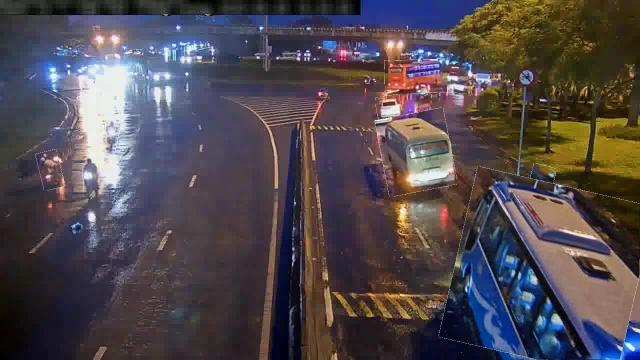Bike: (38, 150, 62, 190), (528, 164, 554, 200), (83, 156, 101, 196), (101, 122, 119, 154)
Bus: (447, 176, 639, 360), (378, 110, 454, 194), (384, 59, 448, 93)
Car: (376, 95, 402, 119), (450, 78, 472, 94)
